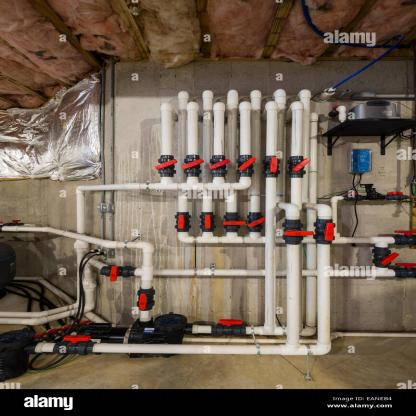PVC: (2, 84, 416, 357)
